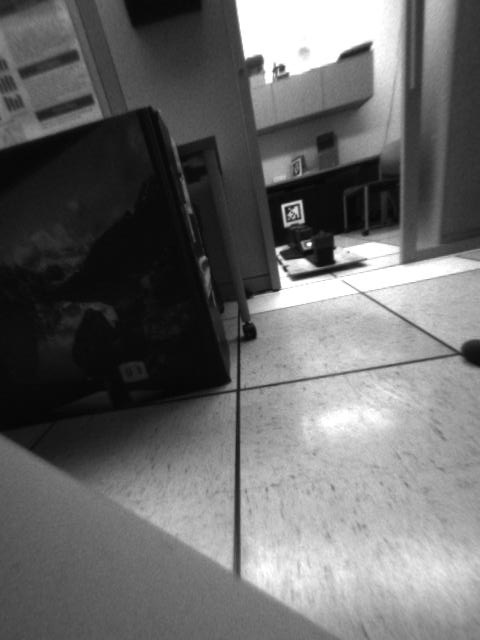dogtoy: (459, 330, 480, 372)
